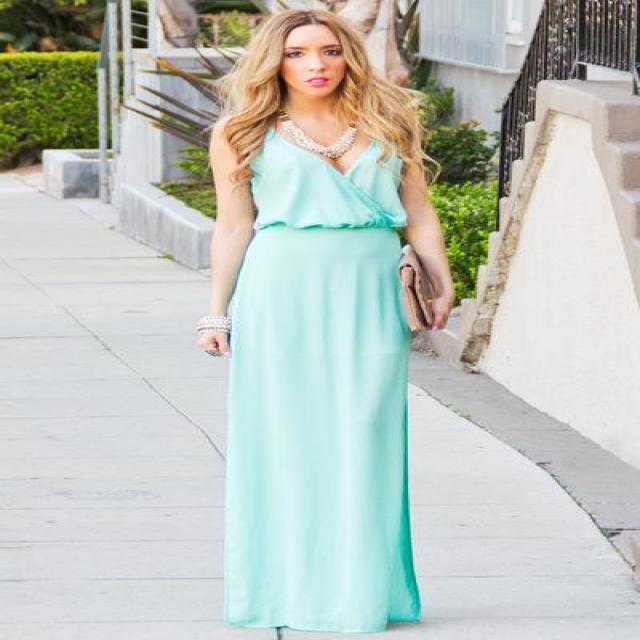bag: (402, 257, 448, 329)
dress: (222, 143, 420, 639)
